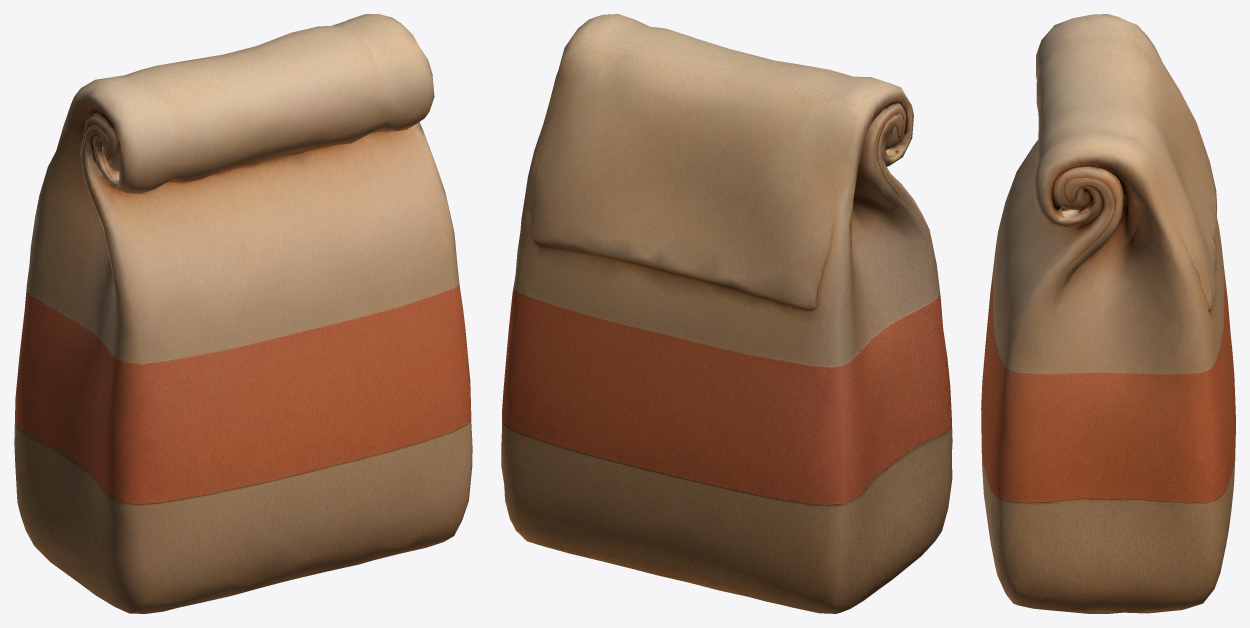
The model's file is P_DogFoodBag_h45.fbx.
3 renders of one model, left to right at view 1: azimuth 30°, elevation 25°; view 2: azimuth 150°, elevation 25°; view 3: azimuth 270°, elevation 25°, orthographic. The views are drawn at different scales.
Parts seen in each view (by area): view 1: texture_mapping; view 2: texture_mapping; view 3: texture_mapping.
Boxes of the visible parts, left/top/right/bottom form: texture_mapping: left=14, top=14, right=472, bottom=613; texture_mapping: left=501, top=14, right=952, bottom=613; texture_mapping: left=981, top=14, right=1235, bottom=613.
Size of the model in its own units: 74.16 by 100 by 49.26.
1 material, 1 textured.
